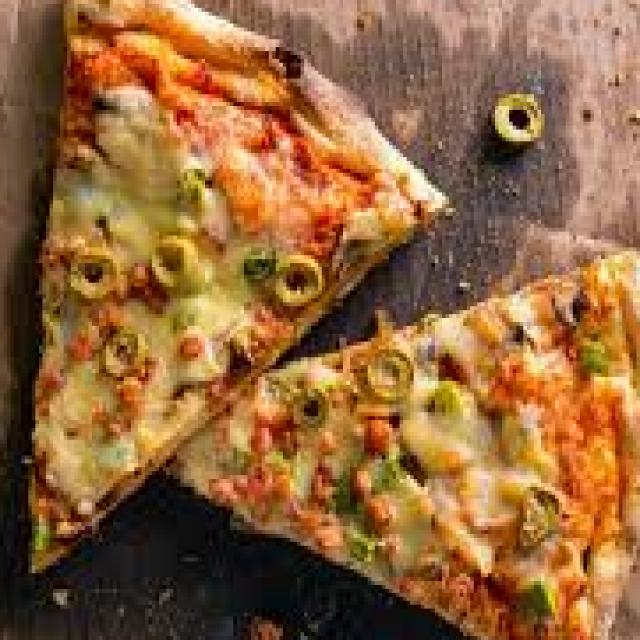inorganic: (32, 33, 435, 599), (188, 231, 639, 629)
